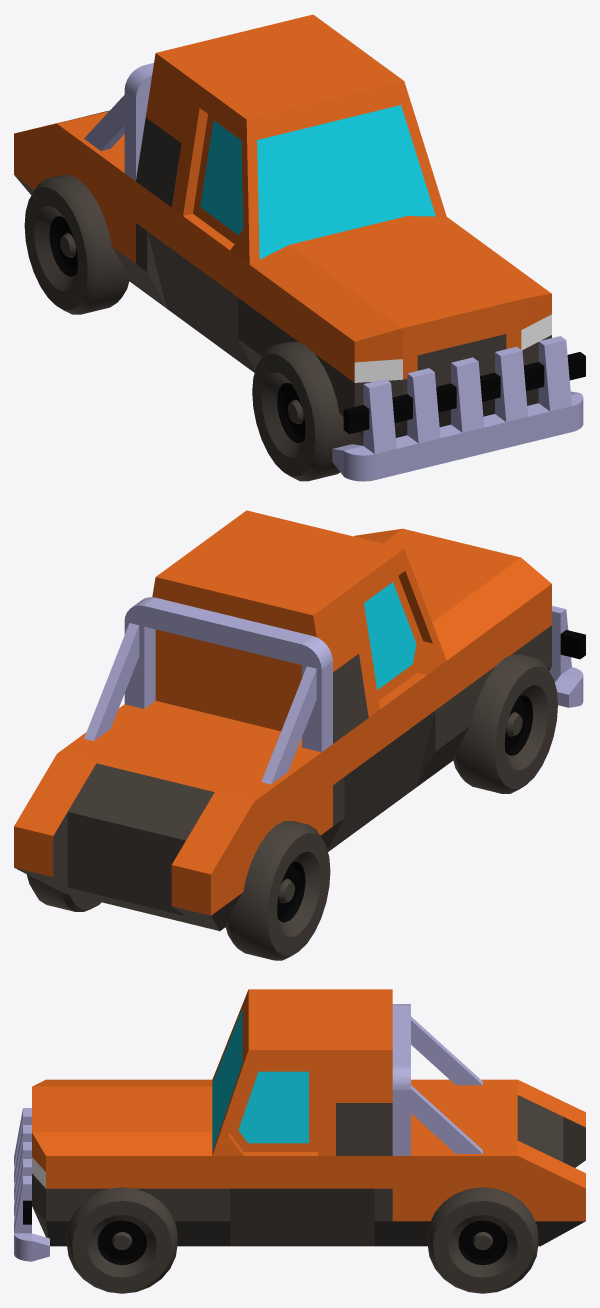
The model's file is car3.fbx.
3 renders of one model, top to bottom at view 1: azimuth 30°, elevation 25°; view 2: azimuth 150°, elevation 25°; view 3: azimuth 270°, elevation 25°, orthographic. The views are drawn at different scales.
Visible parts, largest first — view 1: body_topVan, body_frontSUV, bumper_grill, wheel_small (×2), body_edge, body_frontTank, detail_rollbar; view 2: body_frontTank, body_topVan, wheel_small (×3), body_frontSUV, detail_rollbar, body_edge, bumper_grill; view 3: body_topVan, body_frontSUV, body_frontTank, wheel_small (×2), body_edge, detail_rollbar, bumper_grill.
Boxes of the visible parts, bbox=[...] form: body_topVan: bbox=[136, 14, 446, 264]; body_frontSUV: bbox=[249, 216, 551, 445]; bumper_grill: bbox=[332, 336, 585, 481]; wheel_small (×2): bbox=[24, 175, 356, 481]; body_edge: bbox=[136, 182, 258, 372]; body_frontTank: bbox=[14, 110, 154, 299]; detail_rollbar: bbox=[84, 63, 153, 181]; body_frontTank: bbox=[14, 701, 332, 930]; body_topVan: bbox=[152, 510, 446, 743]; wheel_small (×3): bbox=[26, 654, 557, 960]; body_frontSUV: bbox=[354, 528, 551, 778]; detail_rollbar: bbox=[84, 597, 332, 784]; body_edge: bbox=[324, 661, 446, 851]; bumper_grill: bbox=[549, 606, 585, 707]; body_topVan: bbox=[212, 989, 392, 1155]; body_frontSUV: bbox=[32, 1079, 212, 1246]; body_frontTank: bbox=[392, 1079, 585, 1246]; wheel_small (×2): bbox=[66, 1187, 538, 1293]; body_edge: bbox=[212, 1152, 392, 1246]; detail_rollbar: bbox=[392, 1004, 482, 1155]; bumper_grill: bbox=[14, 1108, 49, 1261].
Bounding box in the file's own units: 12.3 × 14.08 × 31.71.
